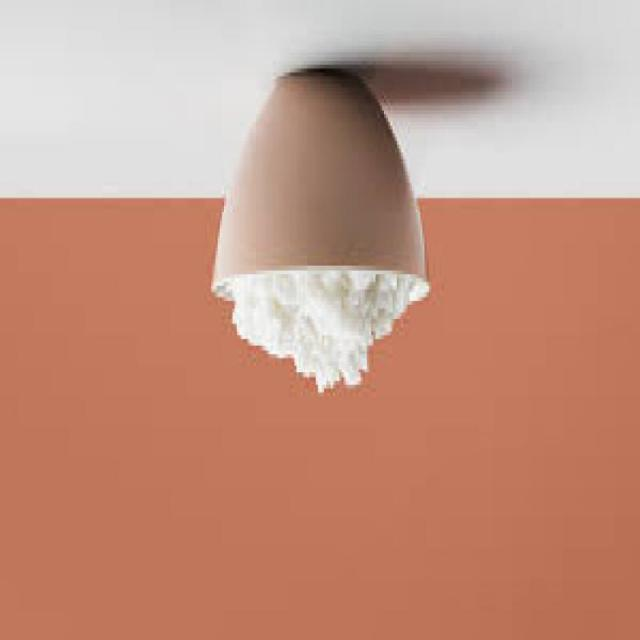nasi_putih: (226, 270, 418, 397)
